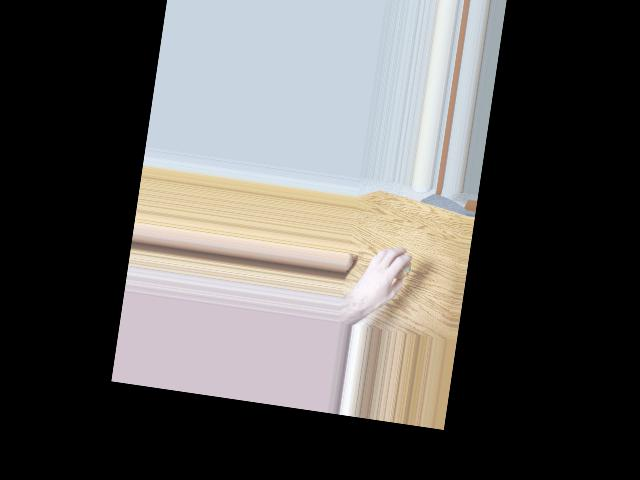onion: (384, 248, 413, 282)
